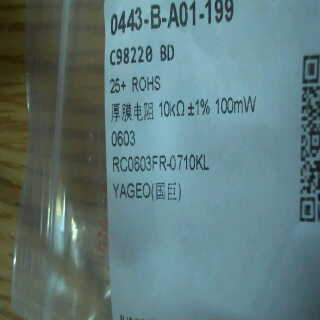10kR: (157, 96, 188, 126)
